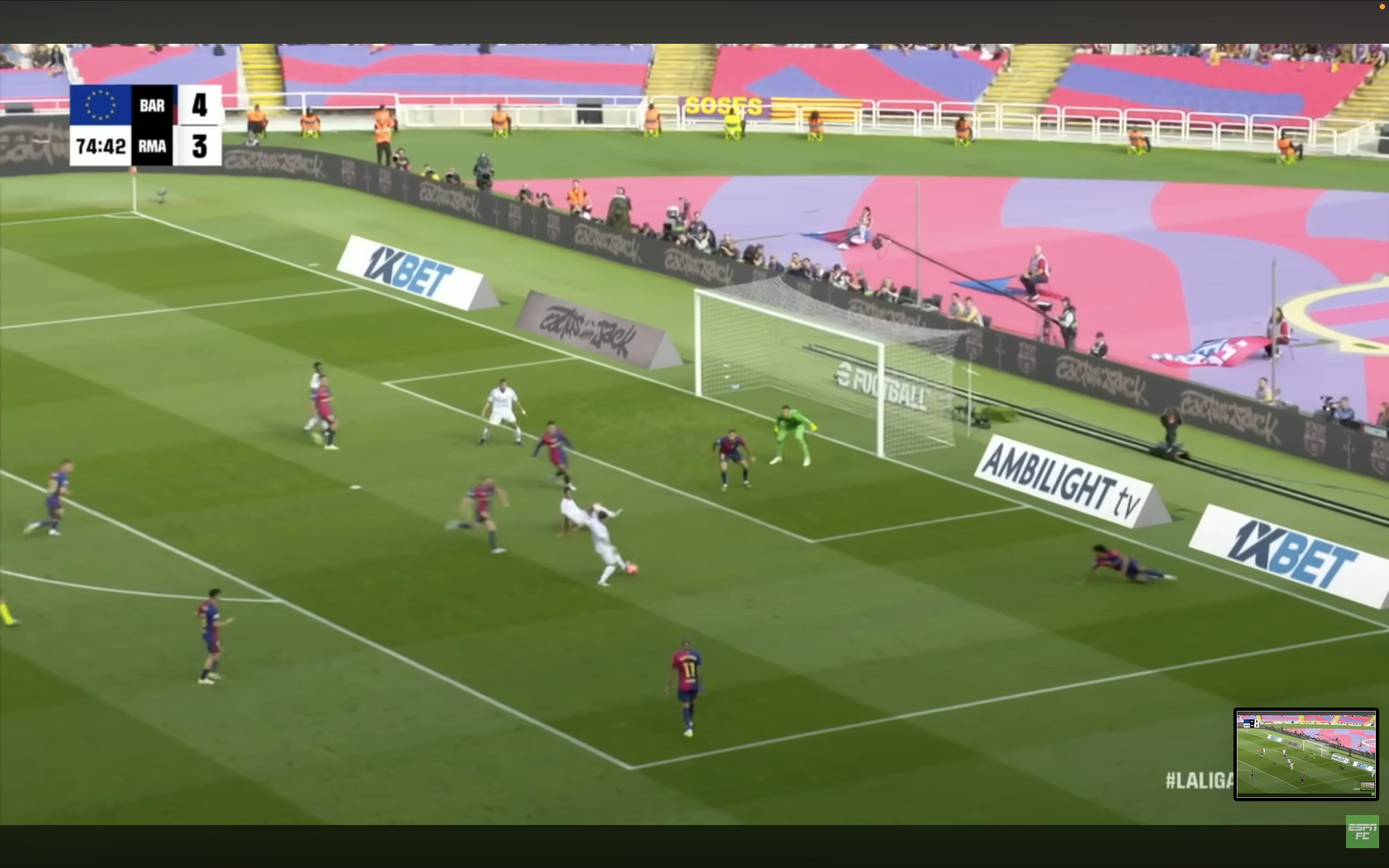ball: (625, 562, 639, 575)
goalkeeper: (769, 405, 818, 465)
player: (446, 477, 508, 553), (588, 504, 637, 587), (24, 460, 74, 536), (1079, 544, 1176, 583), (195, 589, 234, 685), (665, 639, 702, 737), (479, 379, 526, 446), (532, 421, 576, 490), (714, 429, 754, 490), (312, 376, 337, 450), (557, 485, 592, 537), (303, 362, 325, 433)
